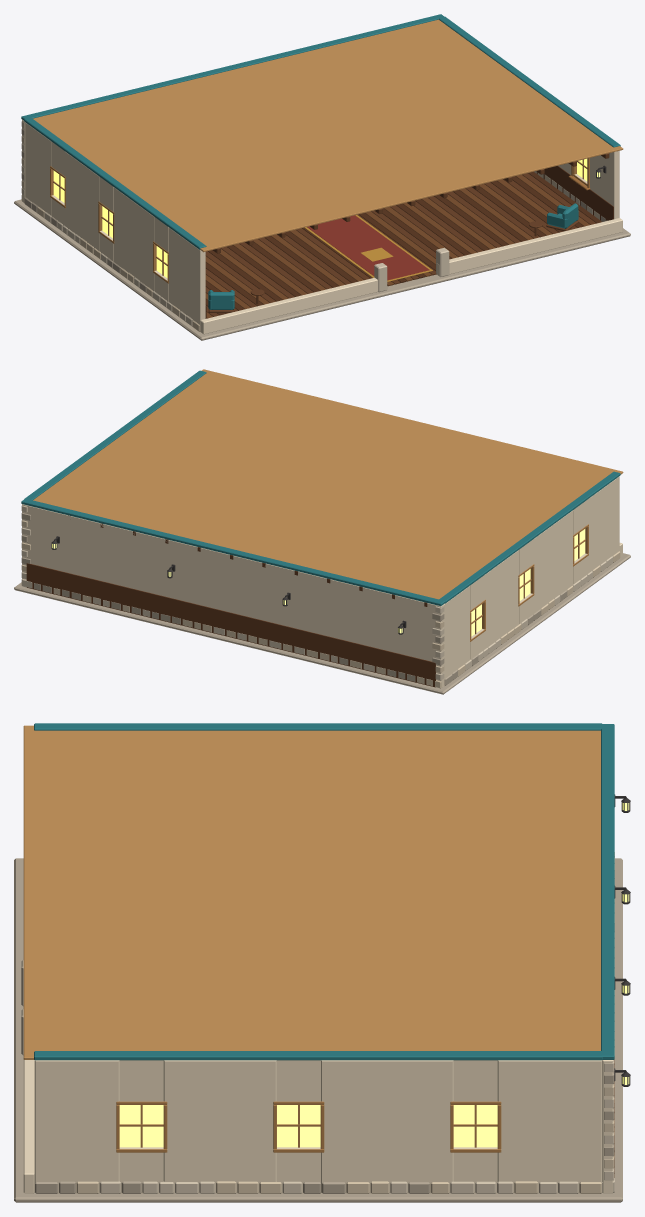
File: casino_interior_shell.glb
The picture shows the model from 3 angles, top to bottom: view 1: azimuth 30°, elevation 25°; view 2: azimuth 150°, elevation 25°; view 3: azimuth 270°, elevation 25°; orthographic projection. The views are drawn at different scales.
Parts seen in each view (by area): view 1: casino_interior_shell_ceiling, casino_interior_shell; view 2: casino_interior_shell_ceiling, casino_interior_shell; view 3: casino_interior_shell_ceiling, casino_interior_shell.
Boxes of the visible parts, bbox=[...] form: casino_interior_shell_ceiling: bbox=[33, 19, 623, 253]; casino_interior_shell: bbox=[14, 14, 630, 340]; casino_interior_shell_ceiling: bbox=[33, 369, 623, 606]; casino_interior_shell: bbox=[14, 370, 630, 694]; casino_interior_shell_ceiling: bbox=[23, 725, 600, 1059]; casino_interior_shell: bbox=[14, 723, 630, 1202].
Bounding box in the file's own units: 16.4 × 3.22 × 12.56.
